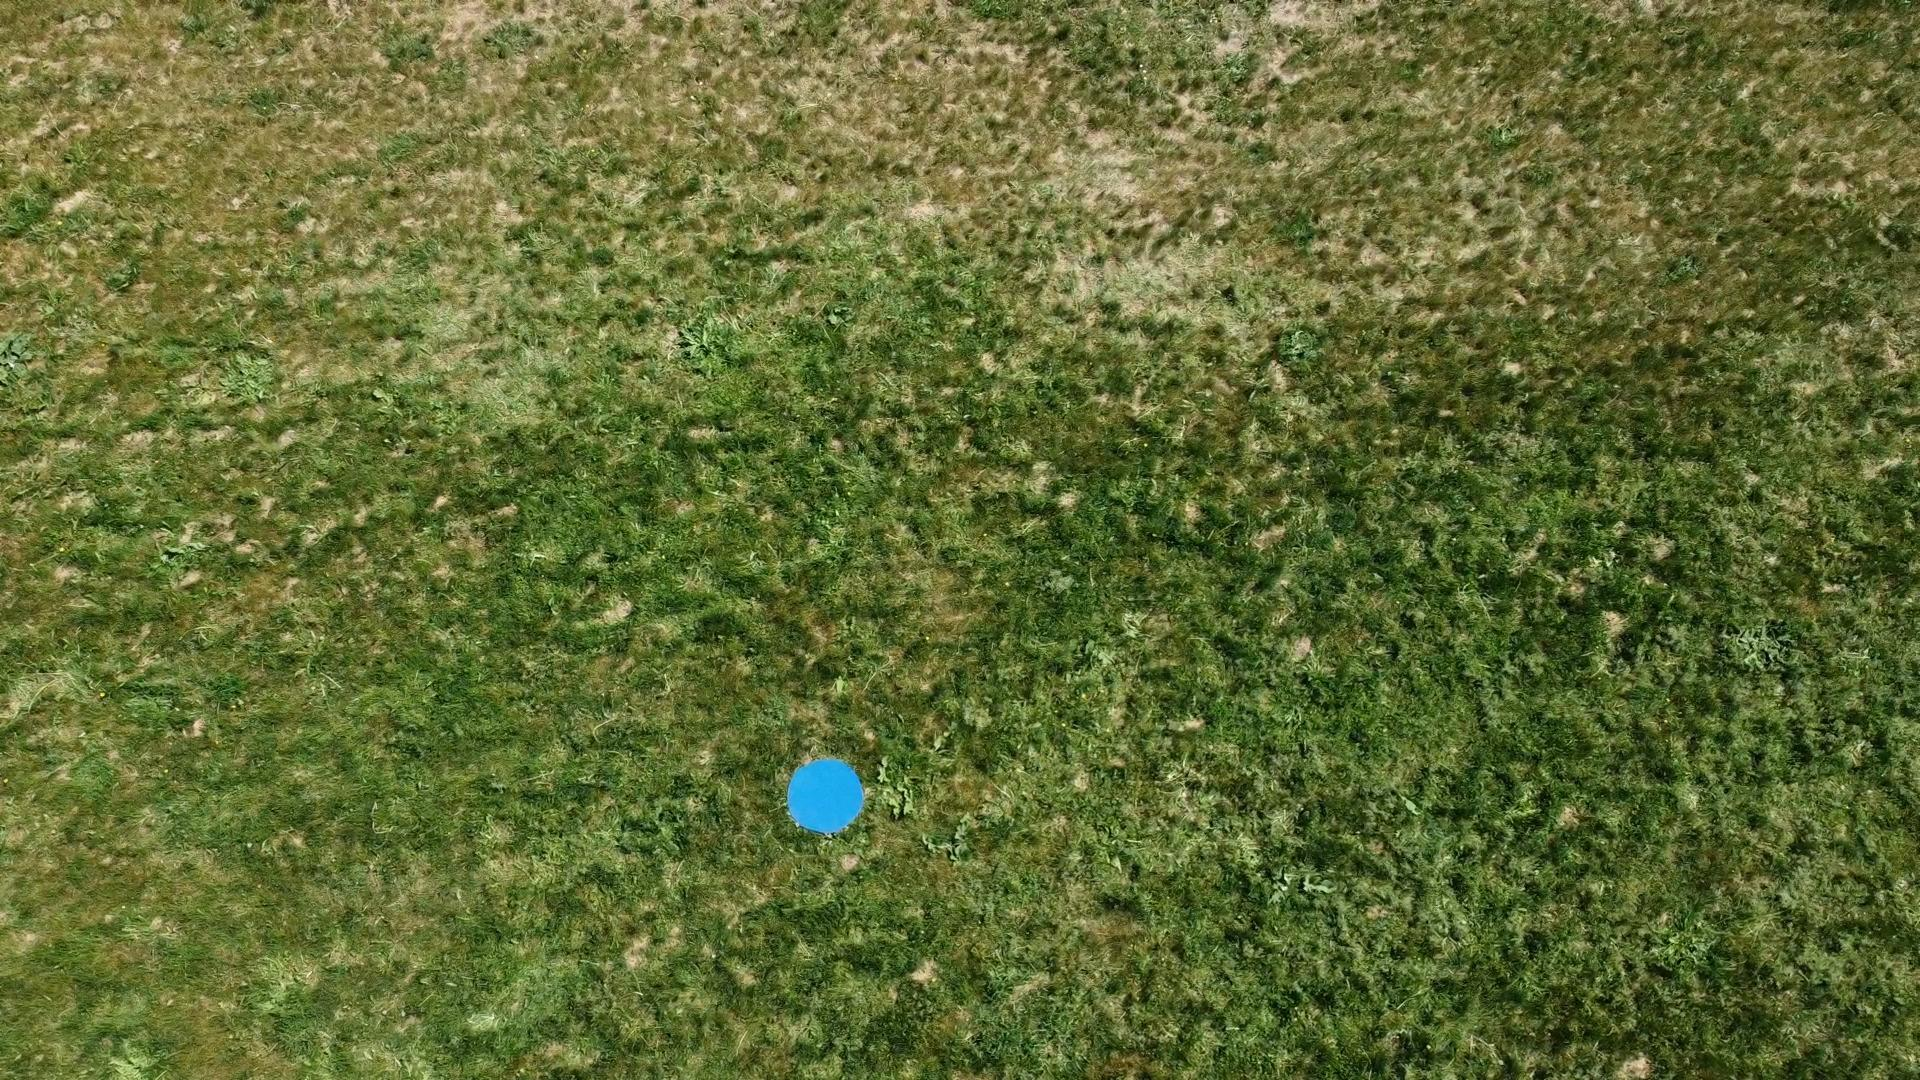Blue: (786, 756, 866, 835)
